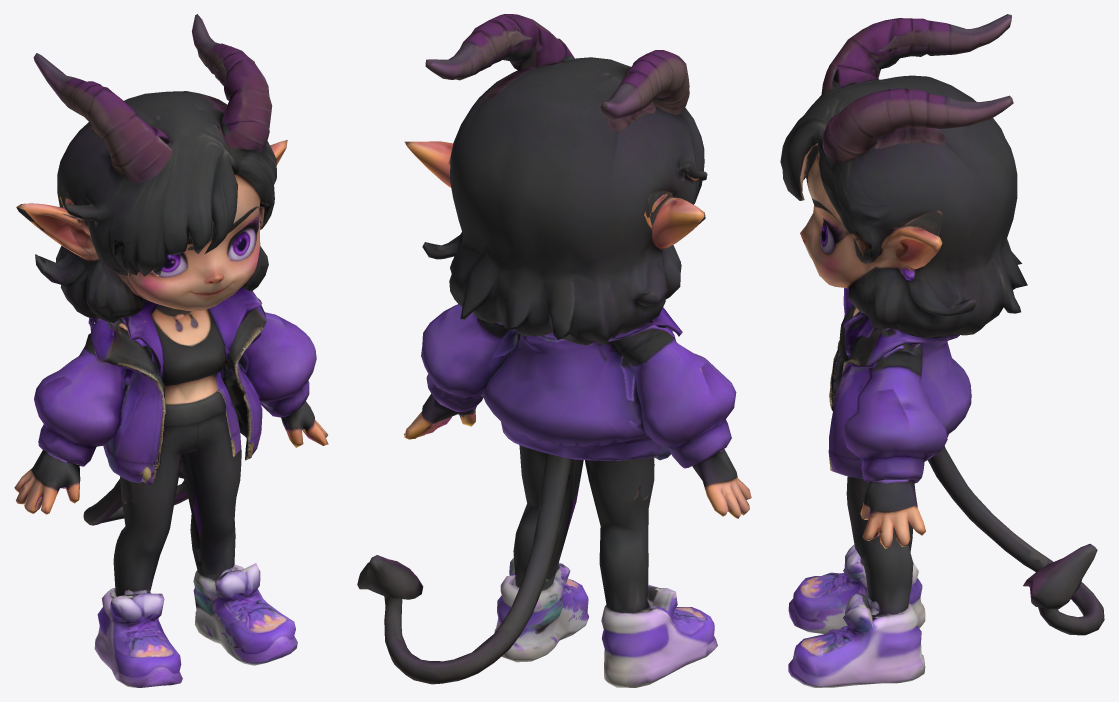
The model's file is daiana.fbx.
3 renders of one model, left to right at view 1: azimuth 30°, elevation 25°; view 2: azimuth 150°, elevation 25°; view 3: azimuth 270°, elevation 25°, orthographic. The views are drawn at different scales.
Visible parts, largest first — view 1: Mesh1; view 2: Mesh1; view 3: Mesh1.
Part boxes in pixels (x1,y1,x2,y2): Mesh1: (14, 14, 328, 687); Mesh1: (357, 14, 751, 687); Mesh1: (780, 14, 1104, 687).
Size of the model in its own units: 112 by 200 by 98.75.
1 material, 1 textured.
